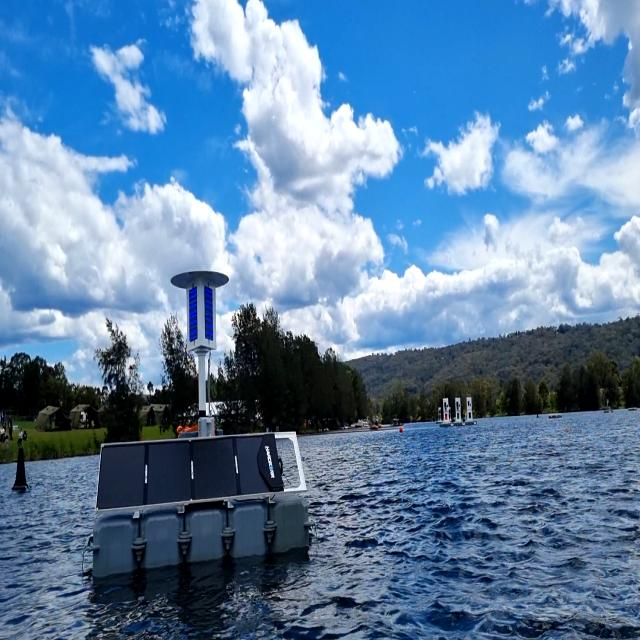led: (202, 282, 215, 344), (187, 286, 199, 344)
